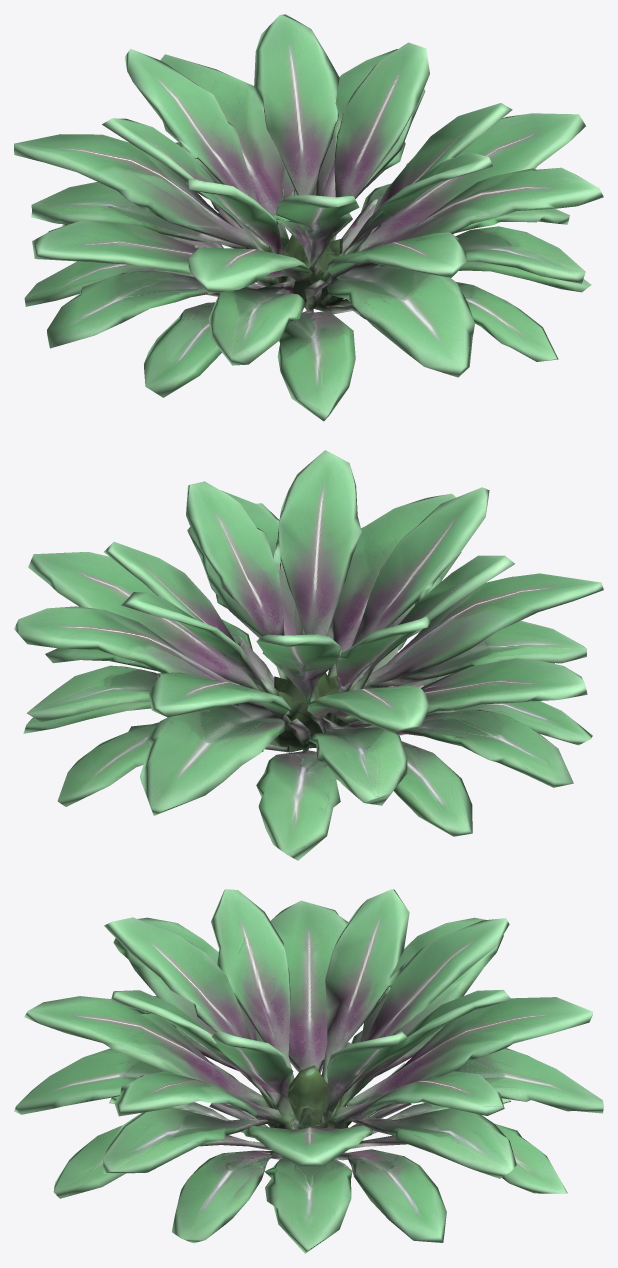
The picture shows the model from 3 angles, top to bottom: view 1: azimuth 30°, elevation 25°; view 2: azimuth 150°, elevation 25°; view 3: azimuth 270°, elevation 25°; orthographic projection. The views are drawn at different scales.
Visible parts, largest first — view 1: Mesh_0; view 2: Mesh_0; view 3: Mesh_0.
Part boxes in pixels (box(x1,y1,x2,y2)): Mesh_0: box(14, 14, 603, 421); Mesh_0: box(14, 450, 603, 860); Mesh_0: box(14, 889, 603, 1253).
Bounding box in the file's own units: 1.92 × 0.6556 × 1.83.
1 material, 1 textured.
